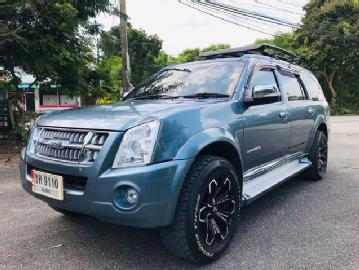pickup: (20, 43, 330, 265)
